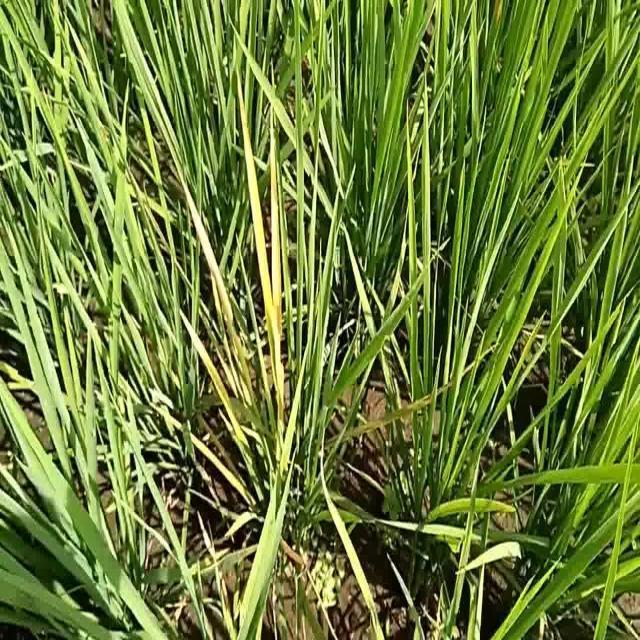Rice Tungro: (155, 109, 237, 329), (233, 60, 271, 317), (177, 302, 244, 447), (264, 59, 294, 328)
